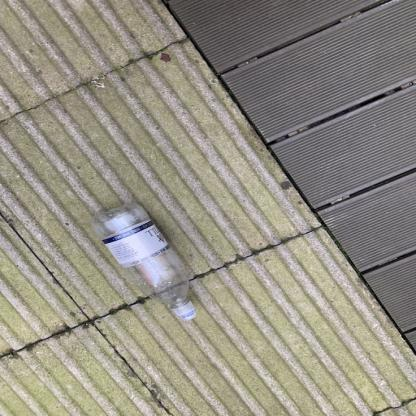trash: (90, 200, 202, 326)
